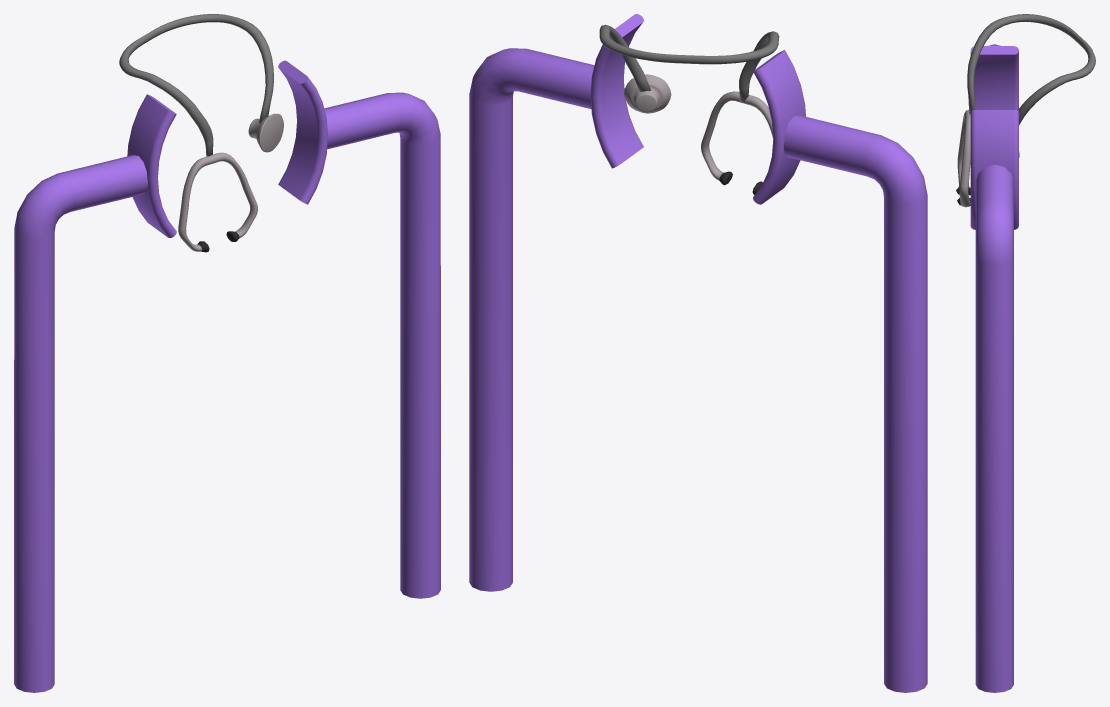
File: DoktorKaps.fbx
The picture shows the model from 3 angles, left to right: view 1: azimuth 30°, elevation 25°; view 2: azimuth 150°, elevation 25°; view 3: azimuth 270°, elevation 25°; orthographic projection. The views are drawn at different scales.
Visible parts, largest first — view 1: Cube, Circle, Doctor_Body; view 2: Cube, Circle, Doctor_Body; view 3: Cube, Circle, Doctor_Body.
Boxes of the visible parts, x1,y1,x2,y2 form: Cube: (14,92,440,692); Circle: (127,60,327,237); Doctor_Body: (119,14,283,252); Cube: (469,48,927,692); Circle: (590,14,805,204); Doctor_Body: (599,24,779,194); Cube: (975,44,1013,692); Circle: (970,46,1018,229); Doctor_Body: (956,14,1095,207).
Bounding box in the file's own units: 71.86 × 94.44 × 21.99.
